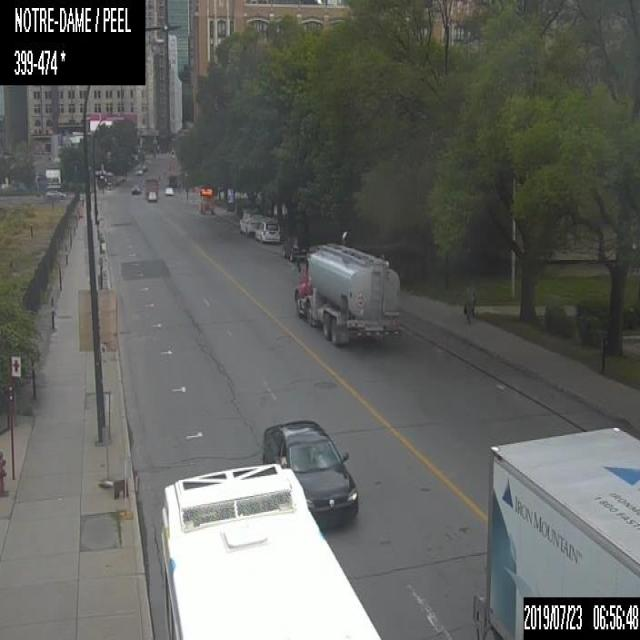bus: (158, 462, 382, 638)
construction: (198, 186, 215, 213)
pedestrian: (462, 280, 479, 324)
vehicle: (472, 425, 639, 639), (262, 416, 360, 534), (293, 242, 401, 346), (522, 594, 639, 638), (239, 208, 264, 238), (254, 216, 280, 243), (282, 236, 308, 262), (146, 178, 158, 202), (129, 182, 141, 195), (164, 184, 174, 196), (134, 167, 143, 176), (140, 162, 148, 171)
